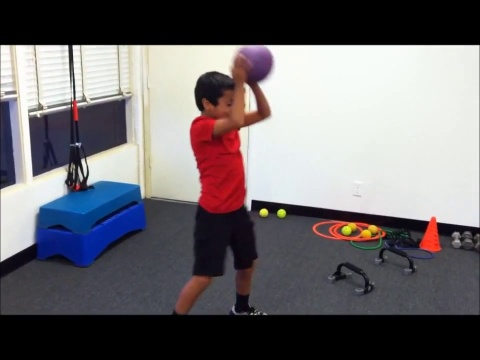person: (170, 51, 275, 323)
